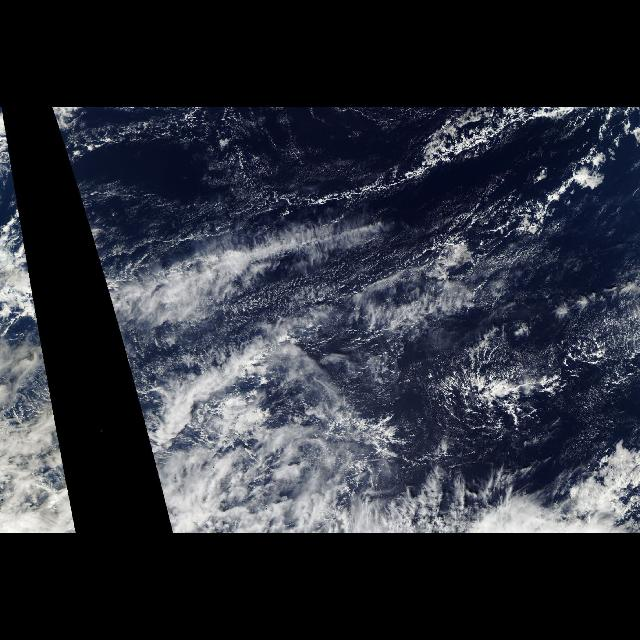Gravel: (404, 117, 566, 436)
